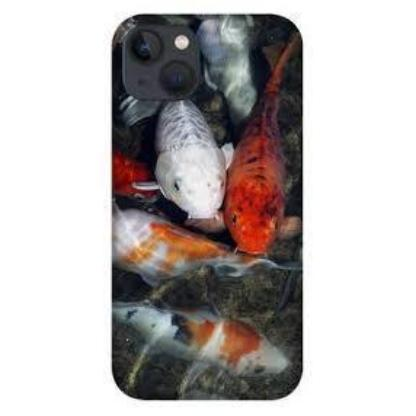ikan-mas: (115, 292, 298, 380), (226, 67, 292, 250), (154, 102, 224, 220)
